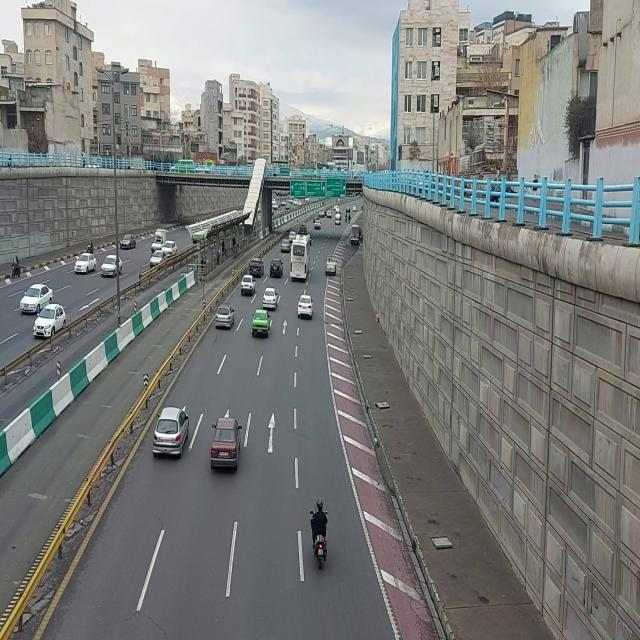Bus: (291, 233, 311, 281)
Car: (151, 402, 191, 462), (209, 415, 245, 475), (32, 302, 66, 344), (19, 284, 53, 317), (102, 251, 124, 281), (74, 251, 98, 276), (251, 310, 271, 339), (216, 302, 236, 330), (297, 294, 315, 320), (262, 287, 278, 311), (240, 275, 256, 297), (150, 250, 168, 269), (248, 258, 264, 278), (269, 256, 283, 278), (120, 233, 136, 251), (162, 240, 178, 258), (325, 256, 337, 276), (280, 238, 290, 253), (299, 222, 307, 233), (314, 220, 322, 230), (289, 232, 296, 242), (319, 209, 326, 219), (326, 210, 332, 219), (352, 205, 357, 213), (346, 207, 351, 214)
Motorcycle: (310, 493, 332, 571), (12, 254, 22, 280), (86, 239, 94, 255), (348, 213, 352, 223), (361, 205, 364, 213), (345, 213, 347, 224)
Pickup: (151, 228, 165, 252), (335, 212, 341, 226)
